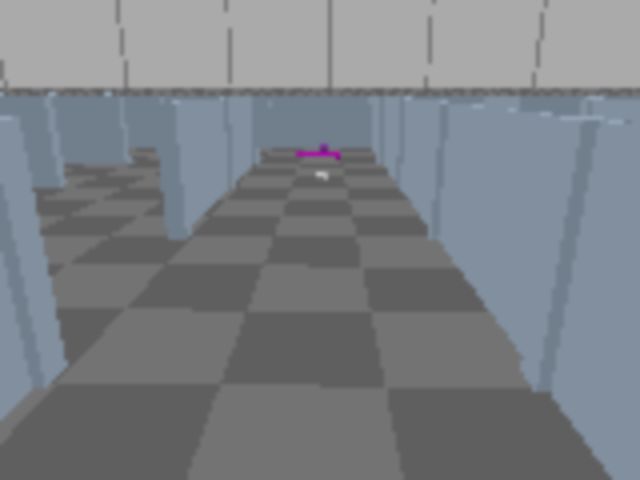goal_zone: (296, 151, 342, 158)
